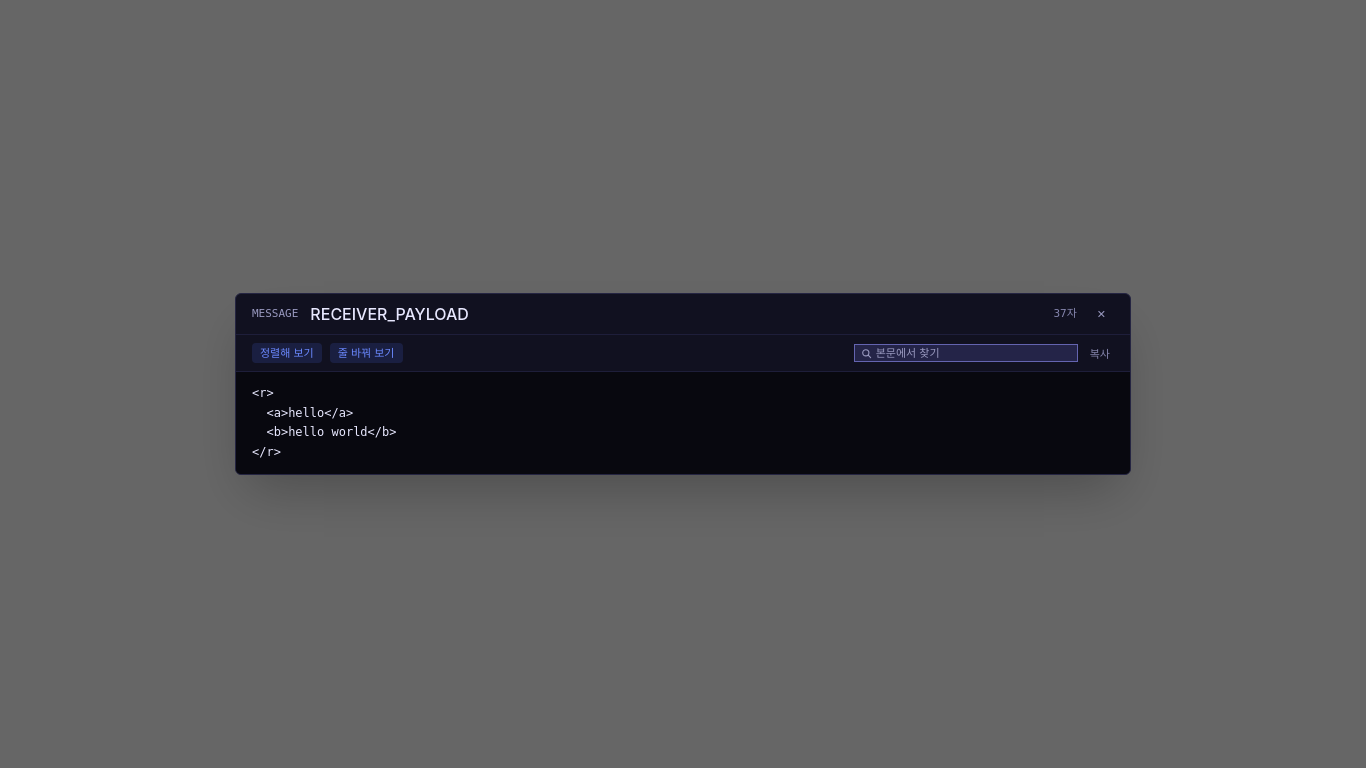
Test: 본문 전체 보기 › 못 찾으면 «없음» 이라고 적는다
Type "zzz" into the field labelled "본문에서 찾기" at [966, 353], box [854,344,1078,362]
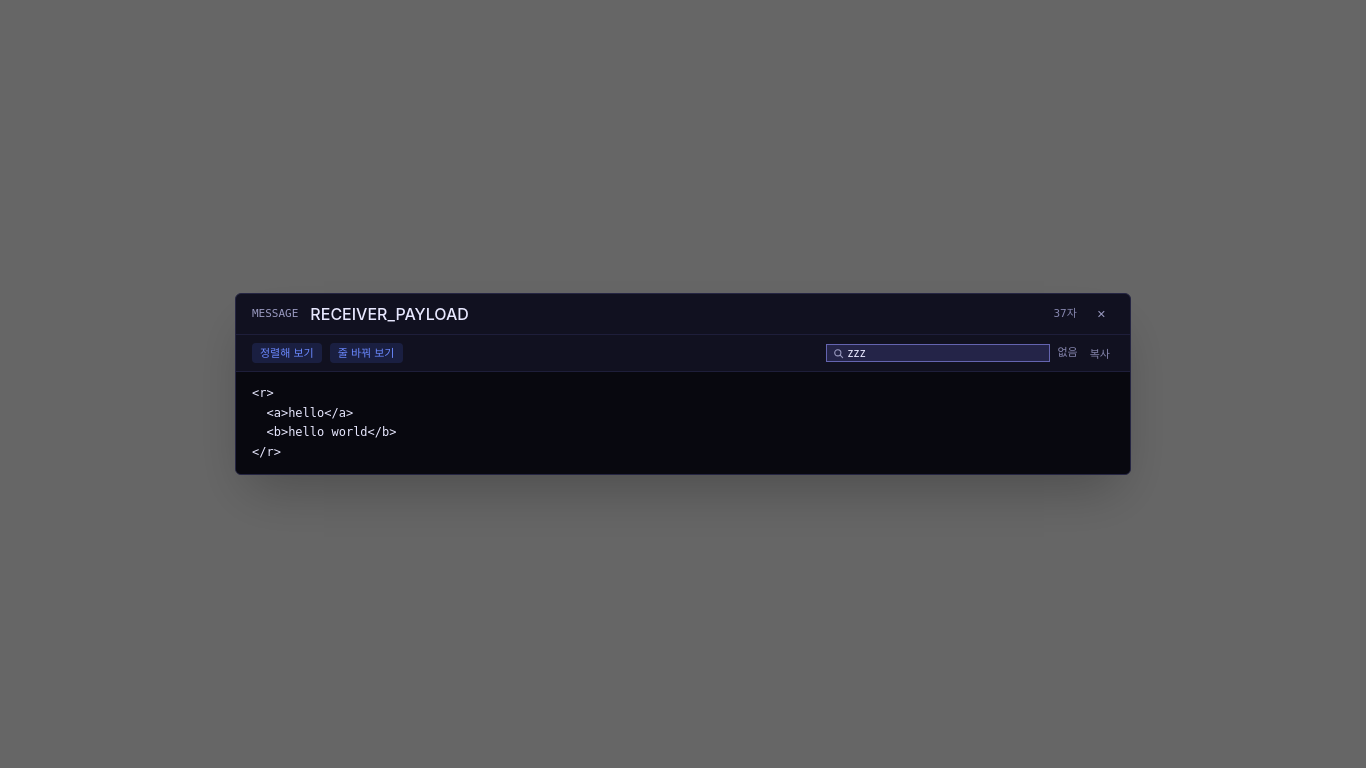
Expected: the text "없음" is shown, [1058,345,1078,361]
